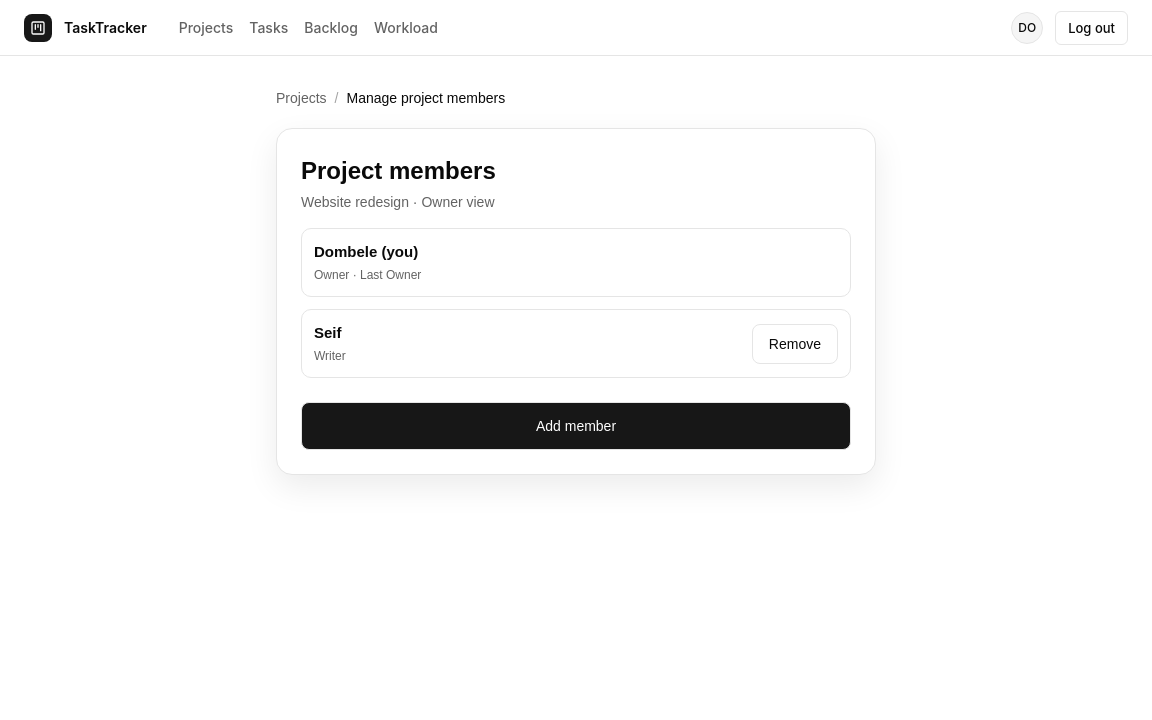
Test: [US-4] Frontend - Manage project members acceptance tests › State 02 -> 07 -> 08: adds new member, updates list, and displays success banner
Click the button with test id "add-member-open-btn". click: (576,426)
box: top-left (301, 402), bottom-right (851, 450)
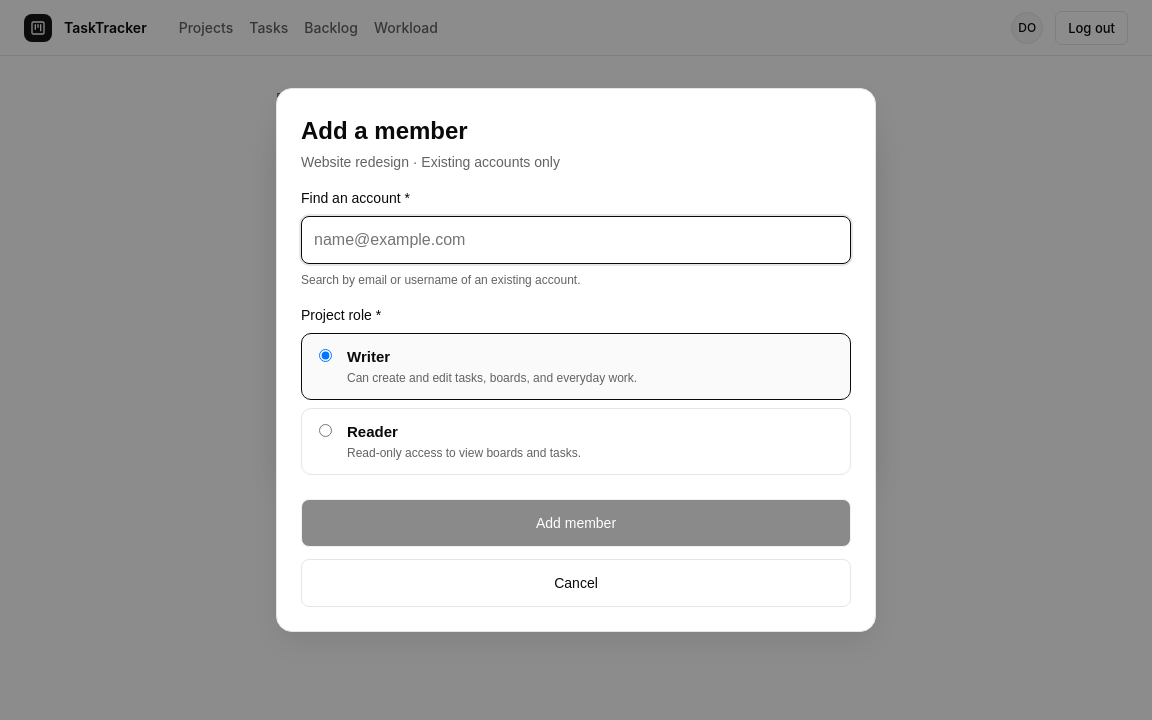
Check: the dialog "Add a member" is shown
Check: the text "Writer" is shown, box top-left (347, 348), bottom-right (390, 365)
Check: the text "Reader" is shown, box top-left (347, 423), bottom-right (398, 440)
Type "mina@example.com" into the field with test id "add-member-email-input". click: (576,240)
box: top-left (301, 216), bottom-right (851, 264)
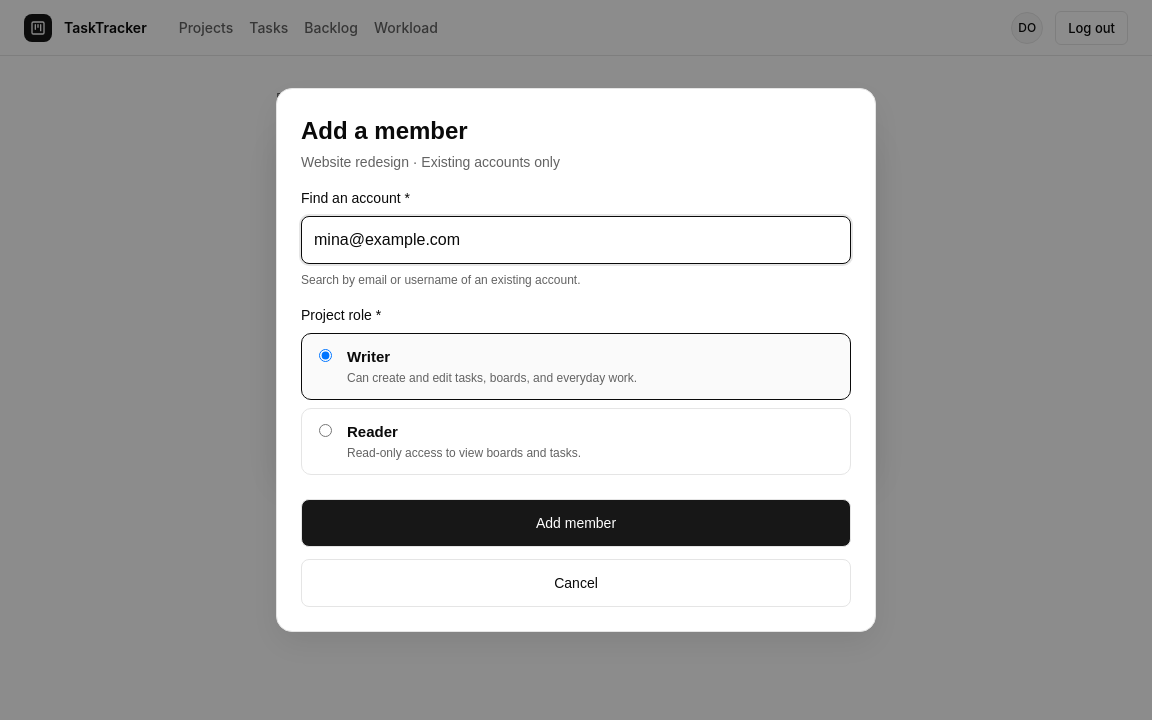
Click the button with test id "add-member-submit-btn". click: (576,523)
box: top-left (301, 499), bottom-right (851, 547)
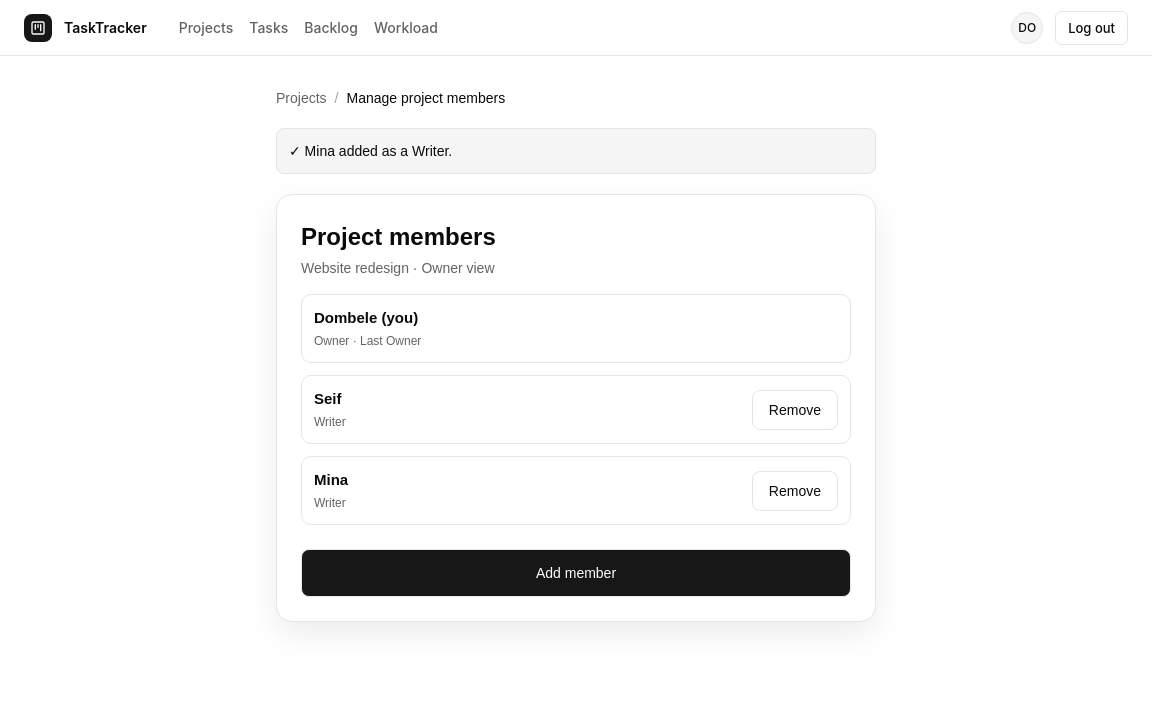
Check: the text "✓ Mina added as a Writer." is shown, box top-left (289, 141), bottom-right (452, 161)
Check: the list item with test id "project-member-item-u-mina" is shown, box top-left (301, 456), bottom-right (851, 525)
